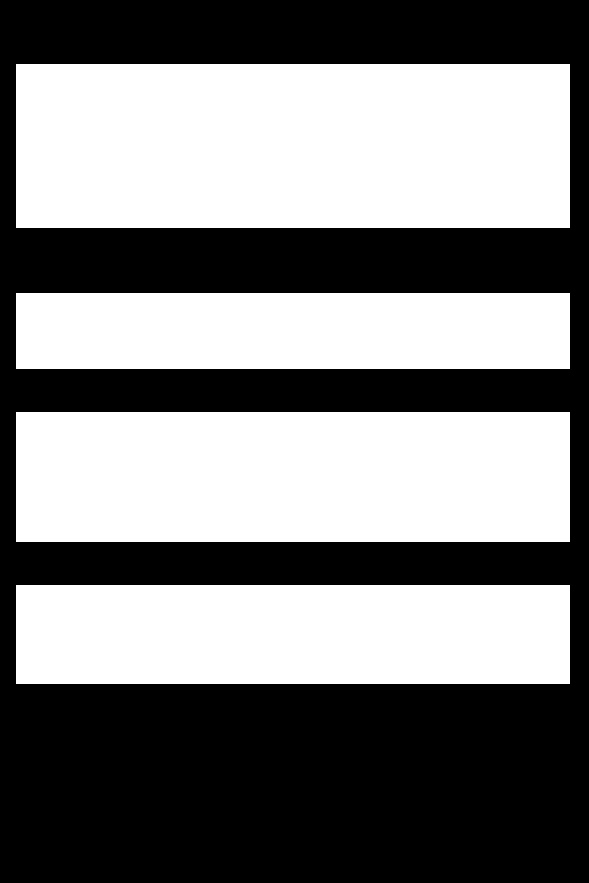table: (16, 64, 569, 227), (16, 412, 569, 541), (16, 585, 569, 683), (16, 293, 569, 368)
